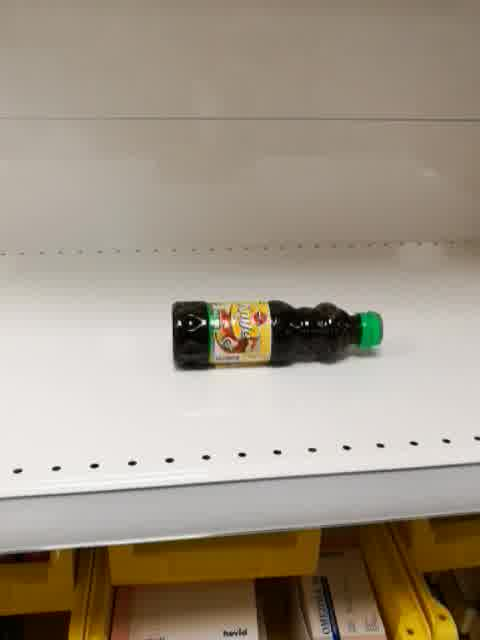cookingoil: (169, 297, 384, 371)
